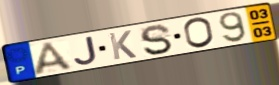9: (216, 11, 248, 43)
A: (33, 40, 77, 77)
J: (73, 35, 99, 67)
K: (107, 29, 139, 61)
O: (182, 17, 216, 50)
S: (138, 24, 175, 57)
